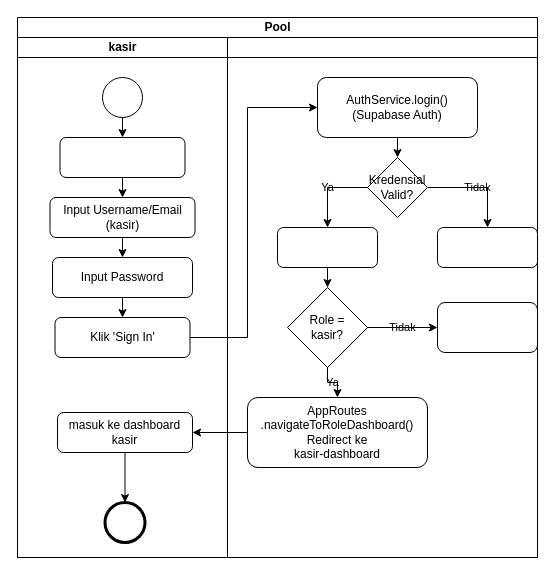
This 555x575 diagram has some shape labels left out. The shapes that lost their labels are listed below. From the top down, each one's box as (x1, y1, x2, y2) in pixels, then its label:
(59, 136, 185, 178): Buka Halaman Login (/login)
(276, 226, 378, 268): Check user.role
(436, 226, 538, 268): Error: 'Login gagal'
(226, 36, 538, 558): system
(436, 302, 538, 352): Redirect ke dashboard sesuai role
